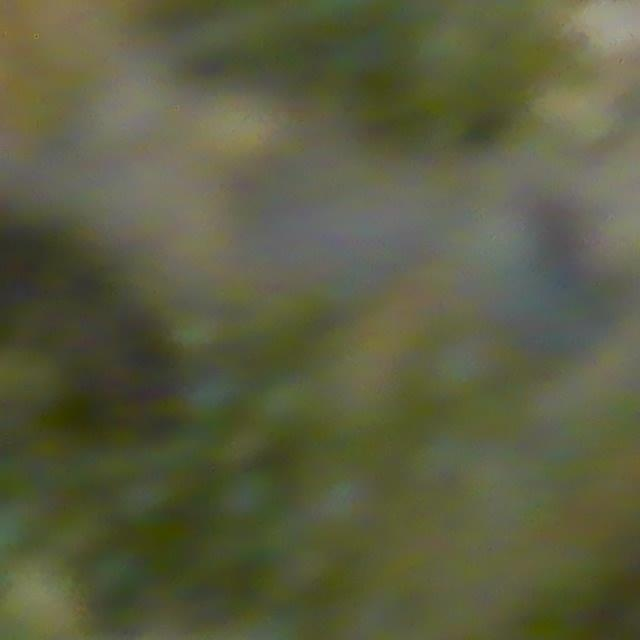SeaGrape: (216, 464, 285, 527)
